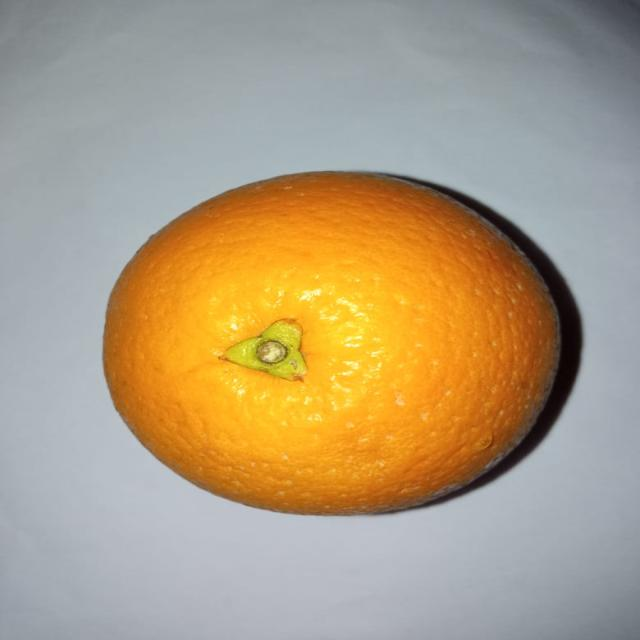fresh_orange: (103, 172, 558, 516)
